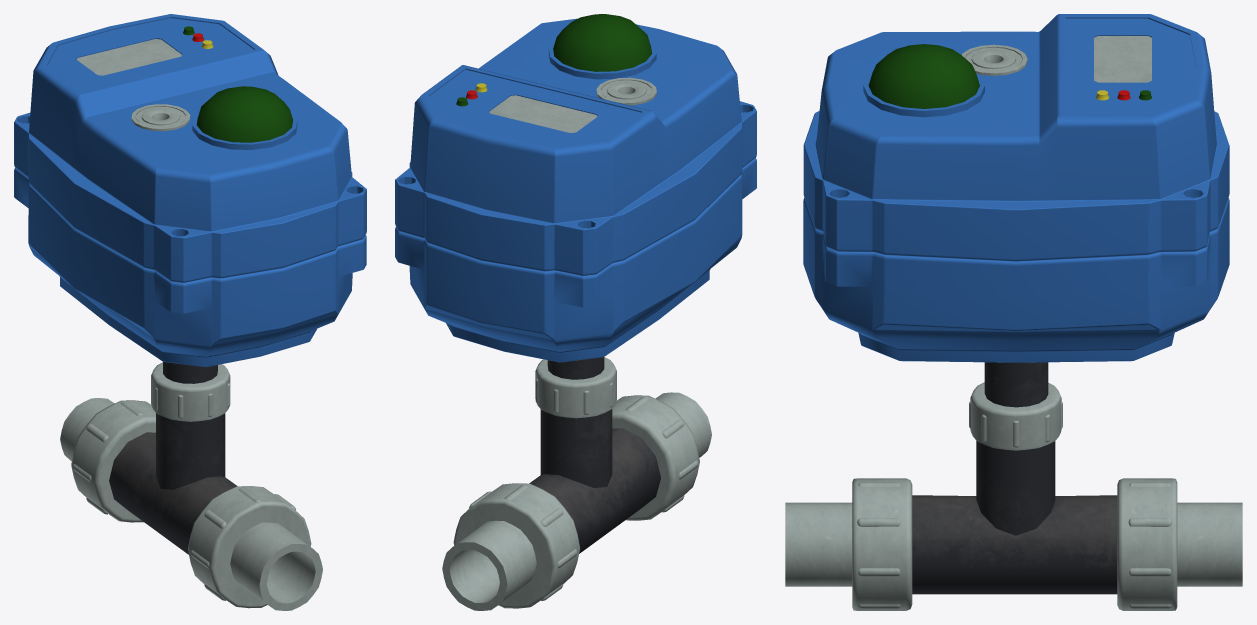
Rendered from EQ_电动阀_3.fbx.
3 views of the same model, side by side, from view 1: azimuth 30°, elevation 25°; view 2: azimuth 150°, elevation 25°; view 3: azimuth 270°, elevation 25° (orthographic). The views are drawn at different scales.
Visible parts, largest first — view 1: EQ_电动阀_零件079, EQ_电动阀_零件040, EQ_电动阀_接口060, EQ_电动阀_管子039, EQ_电动阀_接口059, EQ_电动阀_信号灯095, EQ_电动阀_接口058, EQ_电动阀_管子038; view 2: EQ_电动阀_零件079, EQ_电动阀_零件040, EQ_电动阀_接口059, EQ_电动阀_管子039, EQ_电动阀_接口060, EQ_电动阀_信号灯095, EQ_电动阀_接口058, EQ_电动阀_管子038; view 3: EQ_电动阀_零件079, EQ_电动阀_零件040, EQ_电动阀_管子039, EQ_电动阀_接口060, EQ_电动阀_接口059, EQ_电动阀_信号灯095, EQ_电动阀_接口058, EQ_电动阀_管子038.
Part boxes in pixels (<box>): EQ_电动阀_零件079: <box>14,14,366,282</box>; EQ_电动阀_零件040: <box>14,167,366,366</box>; EQ_电动阀_接口060: <box>188,486,322,610</box>; EQ_电动阀_管子039: <box>109,413,237,554</box>; EQ_电动阀_接口059: <box>60,398,155,522</box>; EQ_电动阀_信号灯095: <box>196,86,292,142</box>; EQ_电动阀_接口058: <box>151,362,230,421</box>; EQ_电动阀_管子038: <box>163,362,217,383</box>; EQ_电动阀_零件079: <box>395,18,756,275</box>; EQ_电动阀_零件040: <box>395,158,756,362</box>; EQ_电动阀_接口059: <box>442,483,580,610</box>; EQ_电动阀_管子039: <box>529,409,660,553</box>; EQ_电动阀_接口060: <box>612,392,711,520</box>; EQ_电动阀_信号灯095: <box>553,14,651,71</box>; EQ_电动阀_接口058: <box>535,357,616,418</box>; EQ_电动阀_管子038: <box>547,357,604,379</box>; EQ_电动阀_零件079: <box>803,14,1229,261</box>; EQ_电动阀_零件040: <box>803,197,1229,362</box>; EQ_电动阀_管子039: <box>912,441,1117,594</box>; EQ_电动阀_接口060: <box>785,478,912,610</box>; EQ_电动阀_接口059: <box>1117,478,1242,610</box>; EQ_电动阀_信号灯095: <box>868,44,979,108</box>; EQ_电动阀_接口058: <box>969,382,1062,450</box>; EQ_电动阀_管子038: <box>984,362,1048,407</box>.
Size of the model in its own units: 112 by 225 by 166.
